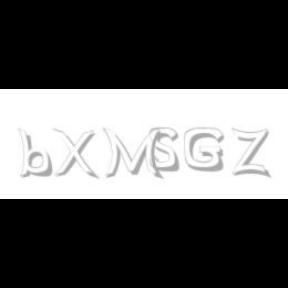G: (184, 128, 224, 172)
M: (102, 128, 162, 180)
S: (150, 128, 180, 172)
X: (52, 128, 96, 180)
Z: (232, 128, 268, 178)
b: (18, 128, 56, 178)
